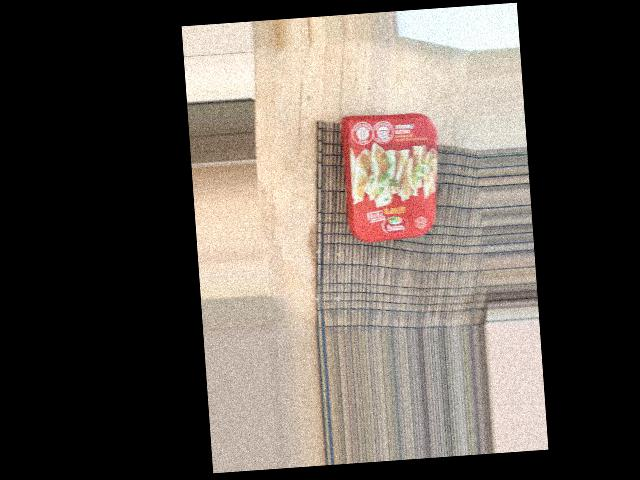cheese: (343, 209, 486, 303)
